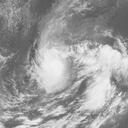cyclone: (35, 45, 73, 90)
